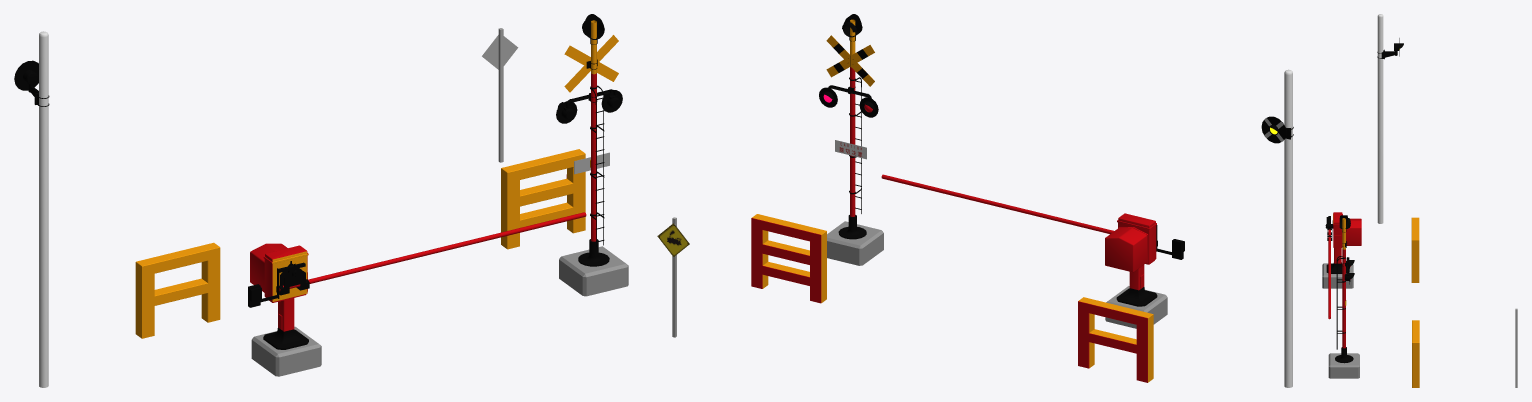
Rendered from 踏切セット.fbx.
3 views of the same model, side by side, from view 1: azimuth 30°, elevation 25°; view 2: azimuth 150°, elevation 25°; view 3: azimuth 270°, elevation 25° (orthographic). The views are drawn at different scales.
Visible parts, largest first — view 1: 踏切注意柵大, 踏切注意柵小, 踏切反応灯柱, 立方体.004, 円柱.019, 立方体.009, 立方体.005, 道路標識, 円柱.004, 平面.002, 踏切反応灯; view 2: 踏切注意柵大, 踏切注意柵小, 立方体.004, 踏切反応灯柱, 立方体.009, 円柱.019, 道路標識, 円柱.004, 平面.002, 立方体.005, 踏切反応灯; view 3: 踏切反応灯柱, 立方体.004, 立方体.009, 踏切注意柵小, 踏切注意柵大, 円柱.004, 立方体.005, 円柱.019, 道路標識, 踏切反応灯.
Part boxes in pixels (box(x1,y1,x2,y2)): 踏切注意柵大: box(501, 149, 585, 249); 踏切注意柵小: box(135, 242, 220, 338); 踏切反応灯柱: box(39, 31, 48, 387); 立方体.004: box(250, 243, 308, 349); 円柱.019: box(248, 212, 586, 307); 立方体.009: box(559, 246, 628, 296); 立方体.005: box(251, 326, 321, 376); 道路標識: box(482, 28, 518, 162); 円柱.004: box(591, 20, 596, 241); 平面.002: box(564, 35, 618, 92); 踏切反応灯: box(14, 60, 49, 106); 踏切注意柵大: box(751, 214, 826, 303); 踏切注意柵小: box(1078, 297, 1153, 382); 立方体.004: box(1105, 213, 1157, 306); 踏切反応灯柱: box(1284, 69, 1292, 387); 立方体.009: box(827, 221, 883, 265); 円柱.019: box(881, 174, 1184, 259); 道路標識: box(657, 217, 689, 337); 円柱.004: box(850, 19, 855, 216); 平面.002: box(826, 35, 874, 86); 立方体.005: box(1105, 286, 1167, 328); 踏切反応灯: box(1261, 116, 1293, 143); 踏切反応灯柱: box(1377, 14, 1383, 223); 立方体.004: box(1326, 212, 1361, 273); 立方体.009: box(1328, 353, 1359, 378); 踏切注意柵小: box(1411, 217, 1419, 282); 踏切注意柵大: box(1412, 320, 1419, 387); 円柱.004: box(1342, 218, 1345, 348); 立方体.005: box(1322, 263, 1353, 288); 円柱.019: box(1325, 216, 1333, 319); 道路標識: box(1515, 308, 1517, 387); 踏切反応灯: box(1377, 38, 1403, 59).
Size of what is drawn, in the model's own units: 1374 by 773 by 653.
